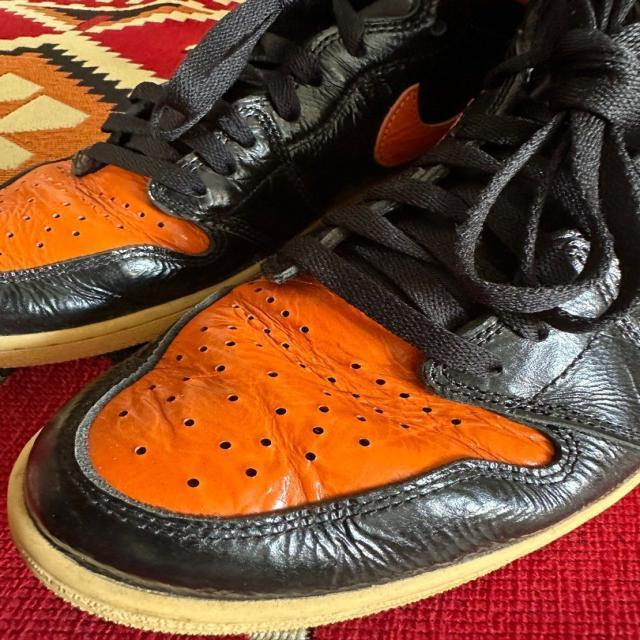nike original jordan 1: (0, 1, 640, 640), (0, 0, 510, 382)
